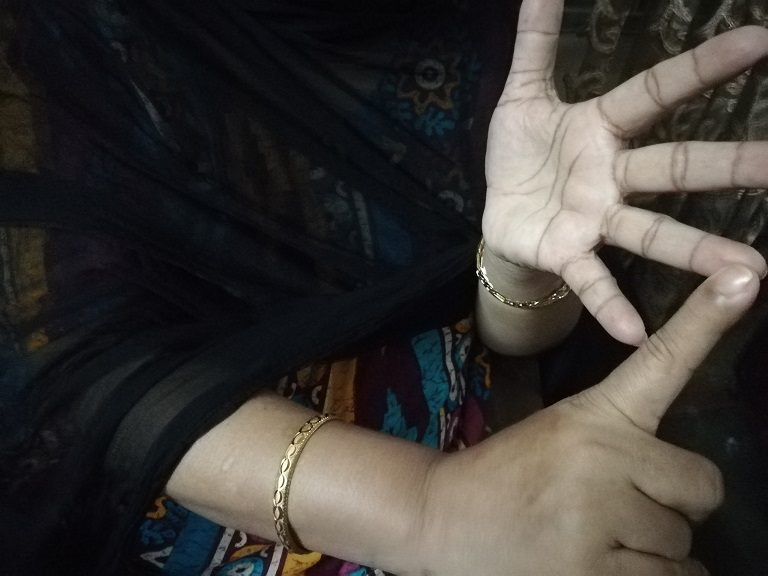e: (493, 1, 767, 576)
